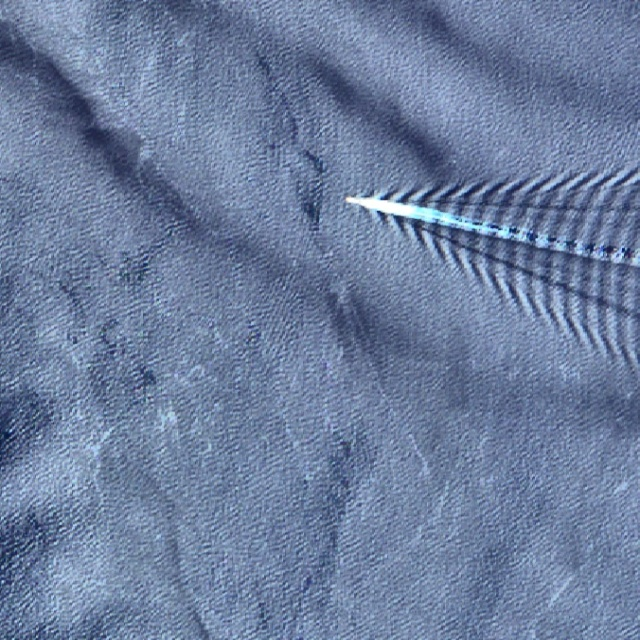wake: (327, 134, 563, 307)
